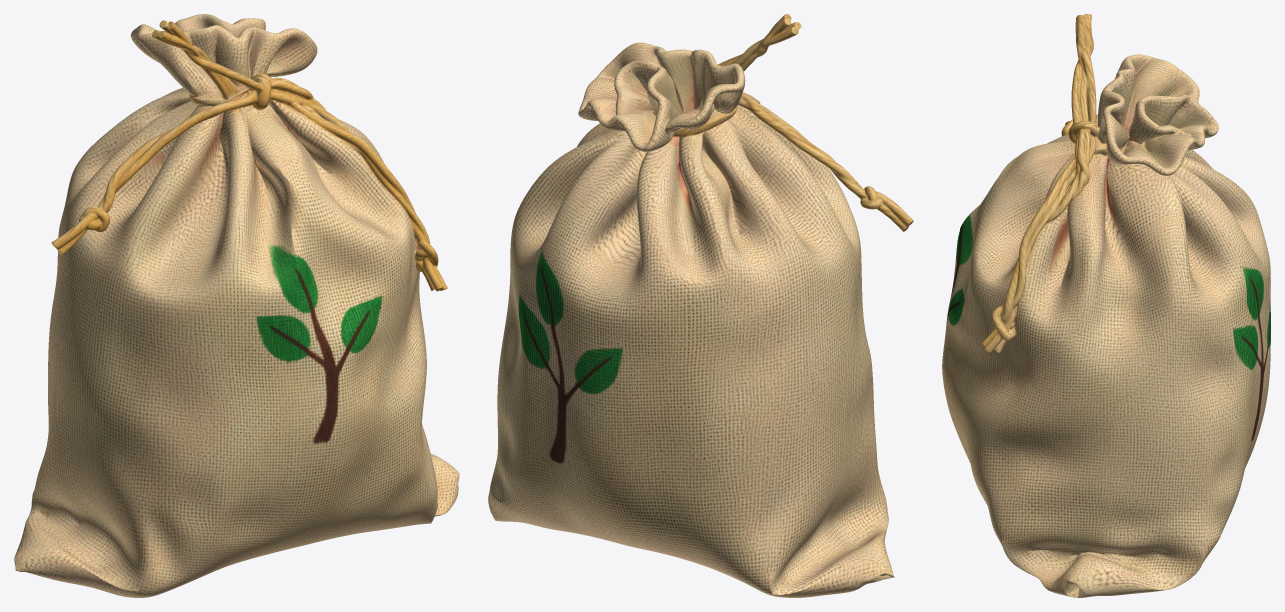
The model's file is seed_bag.glb.
The picture shows the model from 3 angles, left to right: view 1: azimuth 30°, elevation 25°; view 2: azimuth 150°, elevation 25°; view 3: azimuth 270°, elevation 25°; orthographic projection. The views are drawn at different scales.
Size of the model in its own units: 1.53 by 1.9 by 1.2.
Materials: 1 (1 with a texture image).
